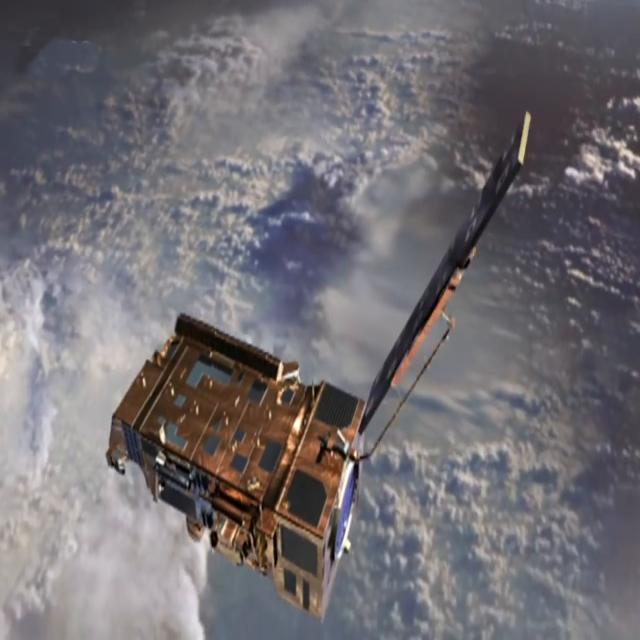sat: (100, 104, 534, 628)
